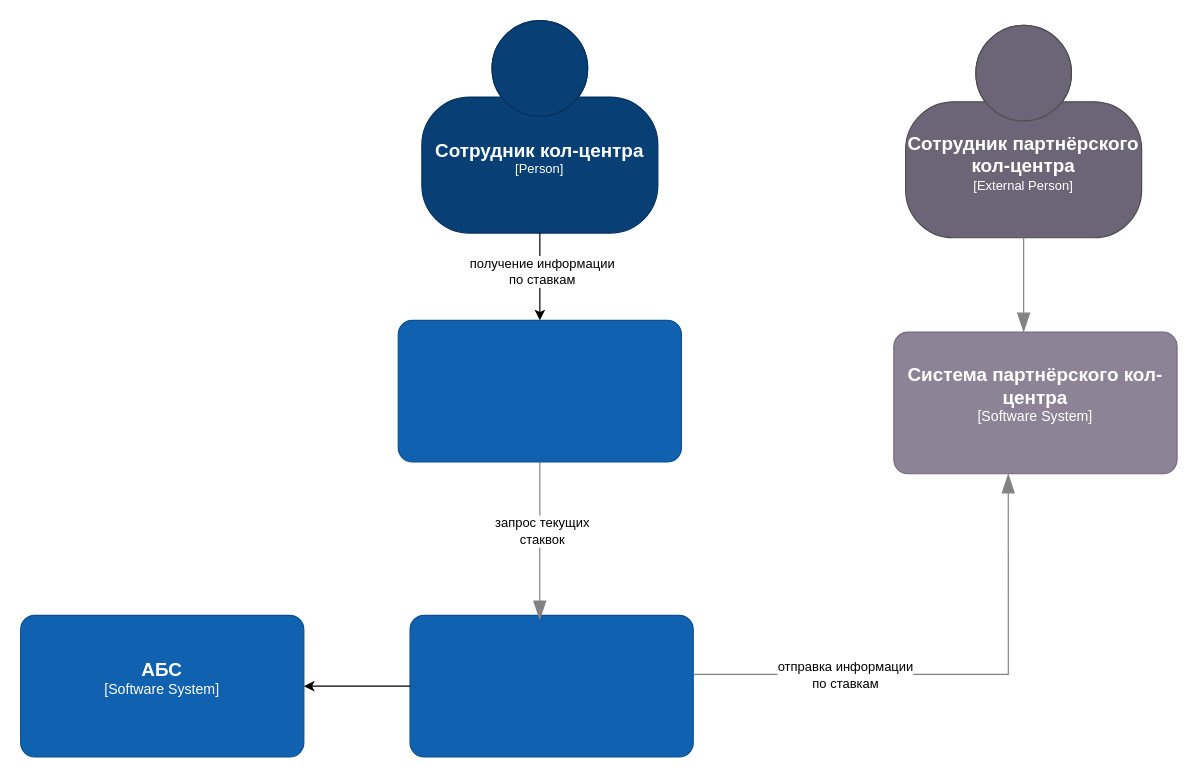
Some shapes in this 1198 by 778 pixel diagram are drawn without their labels. Here are the shapes that lost their labels. From the top down, the box of each, then its label:
(397, 319, 681, 462): Система кол-центра [Software System]
(409, 614, 693, 757): Система управления депозитами [Software System]
